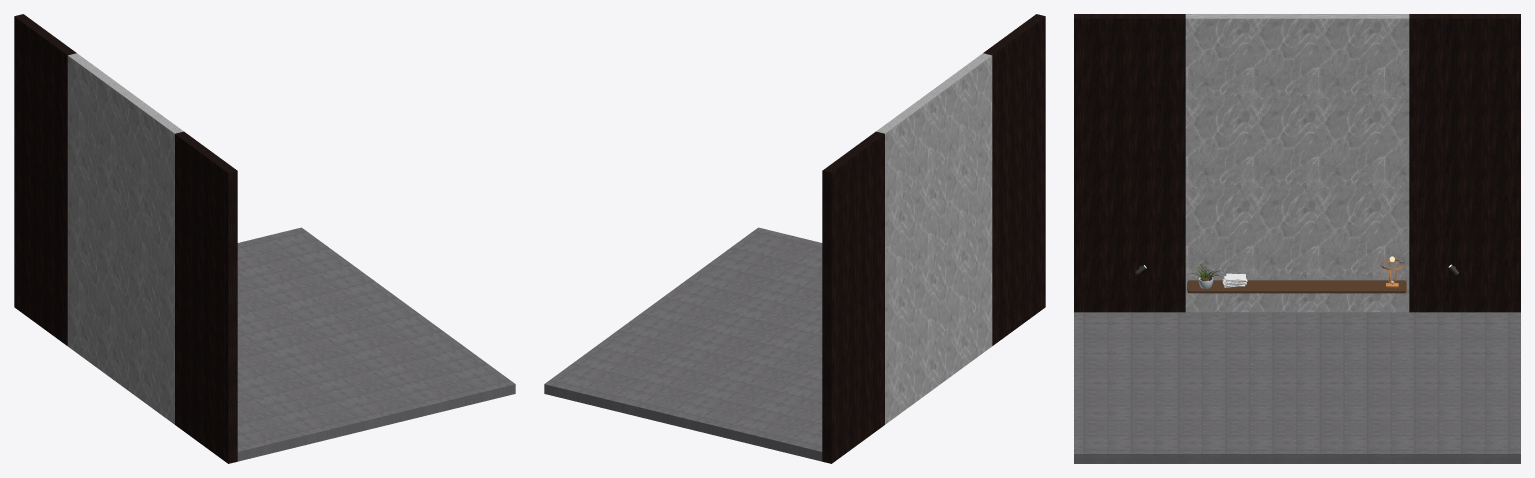
File: neonroom.wood.glb
3 renders of one model, left to right at view 1: azimuth 30°, elevation 25°; view 2: azimuth 150°, elevation 25°; view 3: azimuth 270°, elevation 25°, orthographic. The views are drawn at different scales.
Visible parts, largest first — view 1: Cube, Cube.004, Cube.001, Cube.003; view 2: Cube, Cube.004, Cube.003, Cube.001; view 3: Cube, Cube.004, Cube.003, Cube.001, Wooden surface 1.
Boxes of the visible parts, left/top/right/bottom form: Cube: left=237, top=227, right=515, bottom=461; Cube.004: left=67, top=53, right=183, bottom=424; Cube.001: left=175, top=131, right=237, bottom=463; Cube.003: left=14, top=14, right=76, bottom=345; Cube: left=544, top=227, right=822, bottom=461; Cube.004: left=876, top=53, right=992, bottom=424; Cube.003: left=822, top=131, right=884, bottom=463; Cube.001: left=983, top=14, right=1045, bottom=345; Cube: left=1074, top=312, right=1520, bottom=463; Cube.004: left=1185, top=14, right=1409, bottom=312; Cube.003: left=1409, top=14, right=1520, bottom=312; Cube.001: left=1074, top=14, right=1185, bottom=312; Wooden surface 1: left=1187, top=280, right=1406, bottom=293.
Size of what is drawn, in the model's own units: 6.2 by 6 by 8.
Materials: 20 (6 with a texture image).
